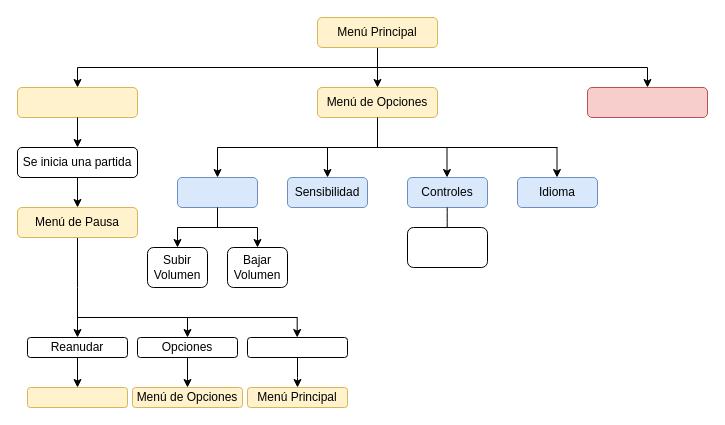
Some shapes in this 725 by 425 pixel diagram are drawn without their labels. Here are the shapes that lost their labels. From the top down, the box of each, then its label:
(16, 86, 138, 118): Nueva Partida
(586, 86, 708, 118): Salir del Juego
(176, 176, 258, 208): Audio
(406, 226, 488, 268): Diagramas de los Controles
(246, 336, 348, 358): Salir
(26, 386, 128, 408): Gameplay
